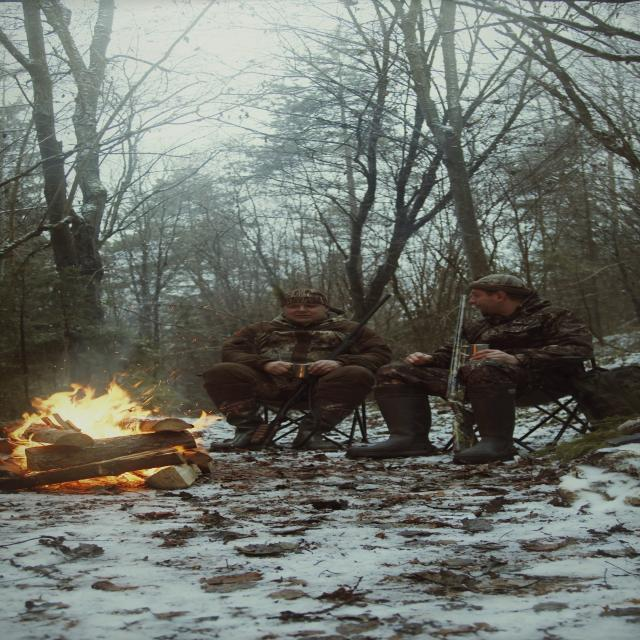Fire: (0, 369, 236, 476)
